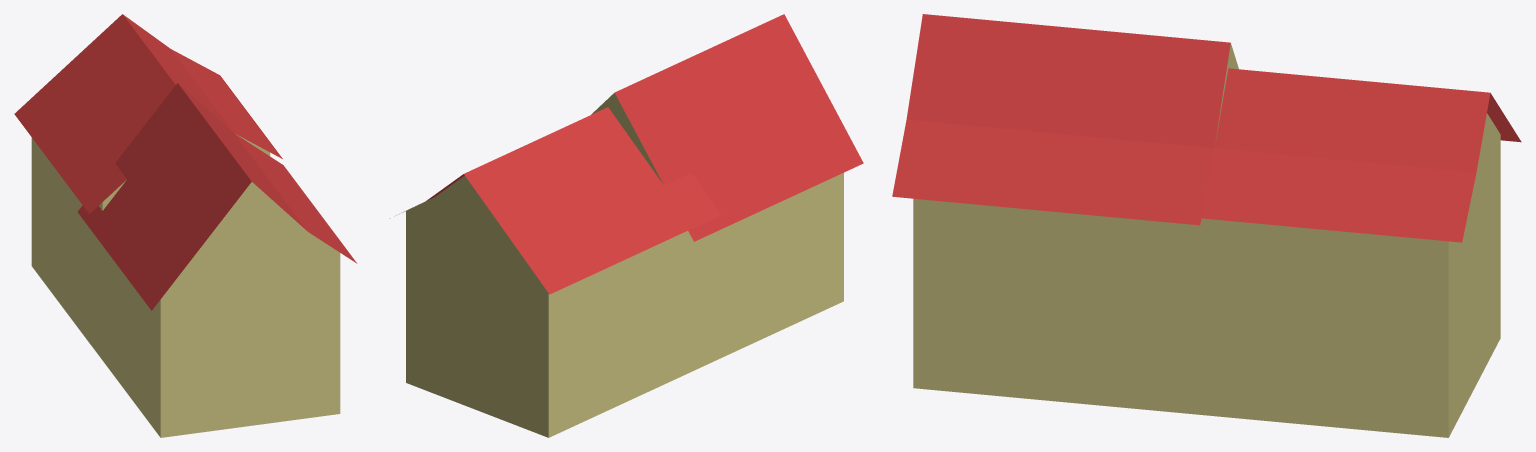
3 renders of one model, left to right at view 1: azimuth 30°, elevation 25°; view 2: azimuth 150°, elevation 25°; view 3: azimuth 270°, elevation 25°, orthographic. The views are drawn at different scales.
Bounding box in the file's own units: 16.83 × 26.74 × 15.05.
